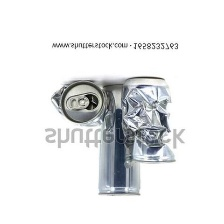can: (94, 82, 146, 208), (121, 72, 185, 171), (46, 77, 106, 130)
